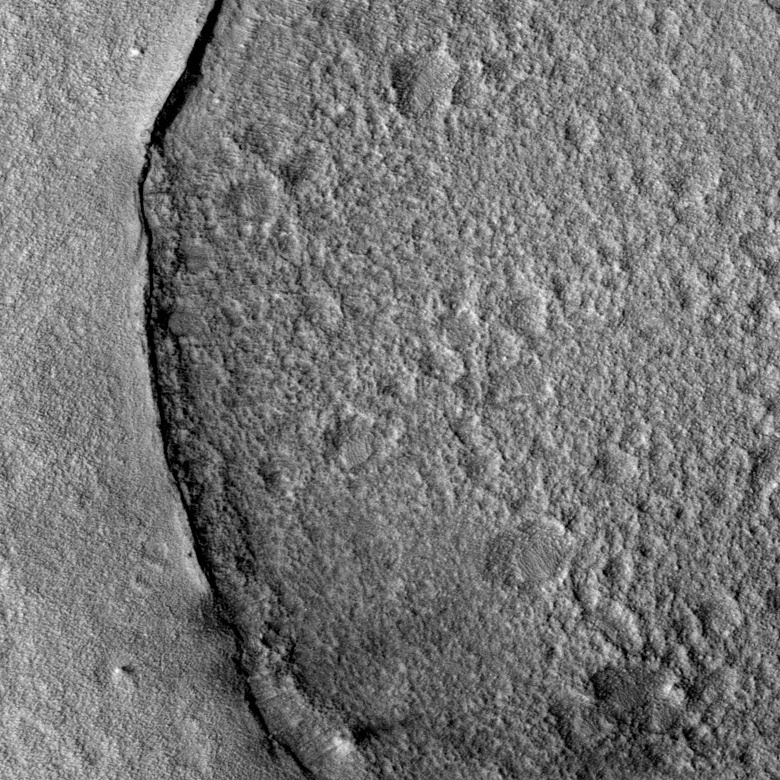dust_devil: (332, 713, 414, 755)
